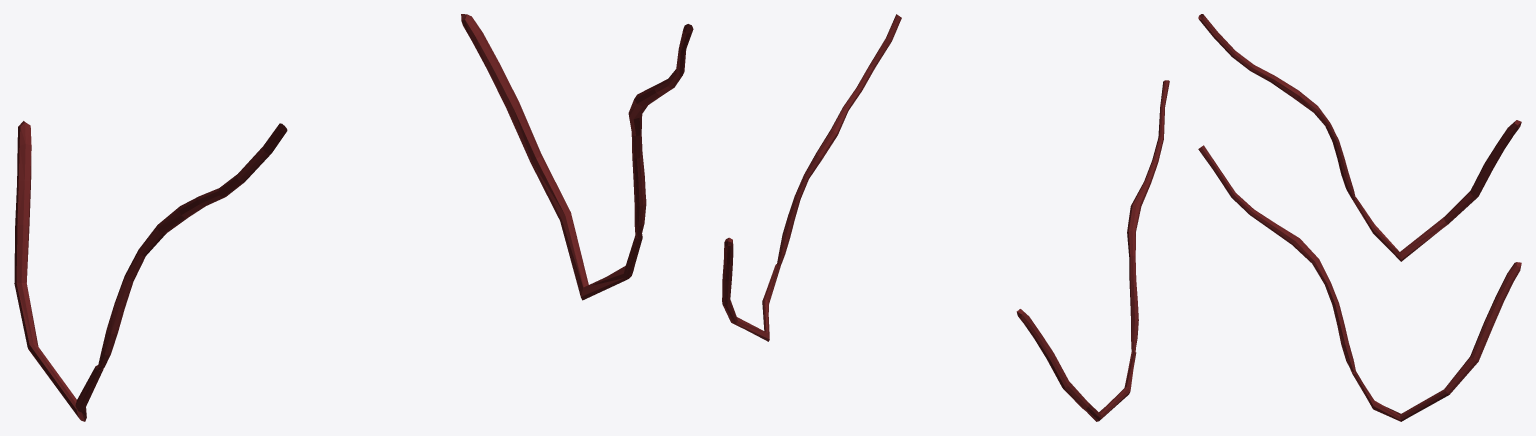
The model's file is Artéria Facial.FBX.
3 views of the same model, side by side, from view 1: azimuth 30°, elevation 25°; view 2: azimuth 150°, elevation 25°; view 3: azimuth 270°, elevation 25° (orthographic). The views are drawn at different scales.
Visible parts, largest first — view 1: CS_Arterie; view 2: CS_Arterie; view 3: CS_Arterie.
Boxes of the visible parts, x1=… form: CS_Arterie: x1=14, y1=14, x2=693, y2=421; CS_Arterie: x1=722, y1=14, x2=1169, y2=421; CS_Arterie: x1=1198, y1=14, x2=1521, y2=421.
Bounding box in the file's own units: 289 × 197 × 220.
